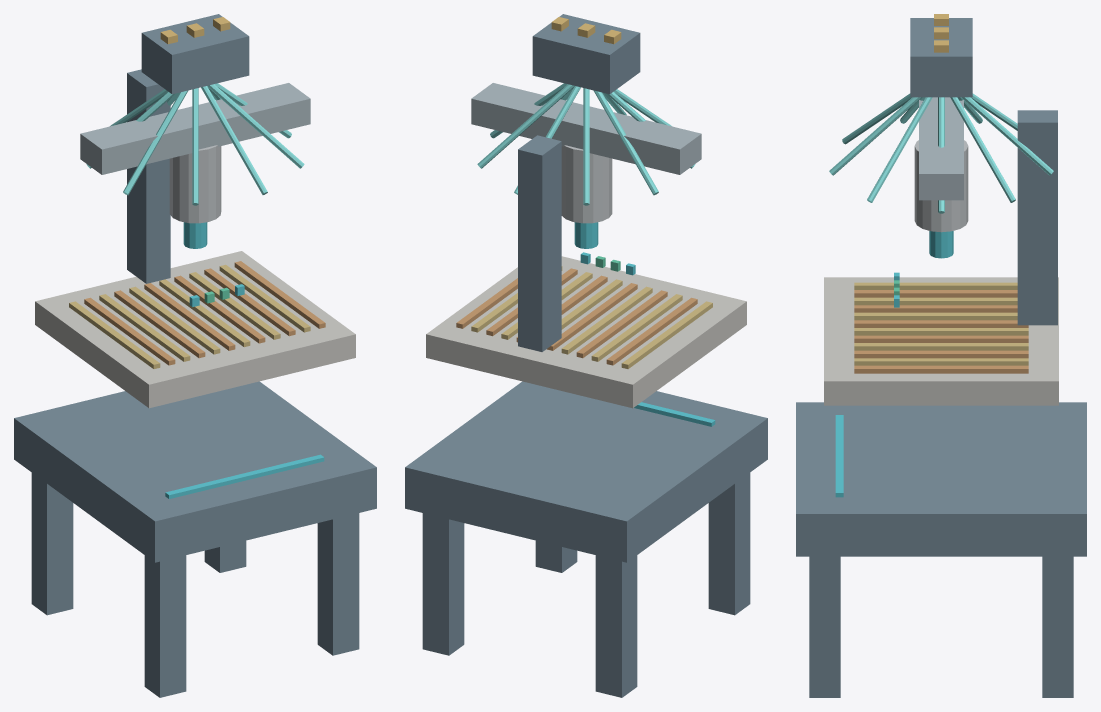
Rendered from 49_L78_DielectricEllipsometryStation.glb.
3 views of the same model, side by side, from view 1: azimuth 30°, elevation 25°; view 2: azimuth 150°, elevation 25°; view 3: azimuth 270°, elevation 25° (orthographic). The views are drawn at different scales.
Visible parts, largest first — view 1: DielectricEllipsometryStation_Node_0000, DielectricEllipsometryStation_Node_0006, DielectricEllipsometryStation_Node_0020, DielectricEllipsometryStation_Node_0032, DielectricEllipsometryStation_Node_0019, DielectricEllipsometryStation_Node_0002, DielectricEllipsometryStation_Node_0004, DielectricEllipsometryStation_Node_0001, DielectricEllipsometryStation_Node_0021, DielectricEllipsometryStation_Node_0005, DielectricEllipsometryStation_Node_0003, DielectricEllipsometryStation_Node_0010 (+16 smaller); view 2: DielectricEllipsometryStation_Node_0000, DielectricEllipsometryStation_Node_0006, DielectricEllipsometryStation_Node_0019, DielectricEllipsometryStation_Node_0020, DielectricEllipsometryStation_Node_0032, DielectricEllipsometryStation_Node_0001, DielectricEllipsometryStation_Node_0003, DielectricEllipsometryStation_Node_0002, DielectricEllipsometryStation_Node_0021, DielectricEllipsometryStation_Node_0004, DielectricEllipsometryStation_Node_0010, DielectricEllipsometryStation_Node_0007 (+11 smaller); view 3: DielectricEllipsometryStation_Node_0000, DielectricEllipsometryStation_Node_0006, DielectricEllipsometryStation_Node_0019, DielectricEllipsometryStation_Node_0032, DielectricEllipsometryStation_Node_0003, DielectricEllipsometryStation_Node_0004, DielectricEllipsometryStation_Node_0020, DielectricEllipsometryStation_Node_0021, DielectricEllipsometryStation_Node_0016, DielectricEllipsometryStation_Node_0018, DielectricEllipsometryStation_Node_0011, DielectricEllipsometryStation_Node_0009 (+15 smaller).
Part boxes in pixels (x1,y1,x2,y2): DielectricEllipsometryStation_Node_0000: [14, 381, 376, 562]; DielectricEllipsometryStation_Node_0006: [35, 251, 355, 408]; DielectricEllipsometryStation_Node_0020: [80, 83, 310, 174]; DielectricEllipsometryStation_Node_0032: [141, 14, 249, 94]; DielectricEllipsometryStation_Node_0019: [127, 69, 170, 283]; DielectricEllipsometryStation_Node_0002: [144, 555, 186, 697]; DielectricEllipsometryStation_Node_0004: [317, 513, 359, 655]; DielectricEllipsometryStation_Node_0001: [31, 473, 73, 615]; DielectricEllipsometryStation_Node_0021: [169, 145, 221, 223]; DielectricEllipsometryStation_Node_0005: [165, 454, 324, 498]; DielectricEllipsometryStation_Node_0003: [204, 540, 246, 572]; DielectricEllipsometryStation_Node_0010: [114, 290, 205, 358]; DielectricEllipsometryStation_Node_0000: [405, 381, 767, 562]; DielectricEllipsometryStation_Node_0006: [426, 256, 746, 408]; DielectricEllipsometryStation_Node_0019: [518, 135, 561, 351]; DielectricEllipsometryStation_Node_0020: [471, 83, 701, 174]; DielectricEllipsometryStation_Node_0032: [532, 14, 640, 94]; DielectricEllipsometryStation_Node_0001: [595, 555, 637, 697]; DielectricEllipsometryStation_Node_0003: [422, 513, 464, 655]; DielectricEllipsometryStation_Node_0002: [708, 473, 750, 615]; DielectricEllipsometryStation_Node_0021: [561, 145, 612, 223]; DielectricEllipsometryStation_Node_0004: [535, 540, 577, 572]; DielectricEllipsometryStation_Node_0010: [576, 290, 667, 358]; DielectricEllipsometryStation_Node_0007: [621, 301, 712, 368]; DielectricEllipsometryStation_Node_0000: [796, 402, 1086, 556]; DielectricEllipsometryStation_Node_0006: [824, 277, 1058, 405]; DielectricEllipsometryStation_Node_0019: [1017, 110, 1057, 325]; DielectricEllipsometryStation_Node_0032: [910, 18, 972, 97]; DielectricEllipsometryStation_Node_0003: [1042, 556, 1073, 697]; DielectricEllipsometryStation_Node_0004: [809, 556, 840, 697]; DielectricEllipsometryStation_Node_0020: [919, 97, 963, 200]; DielectricEllipsometryStation_Node_0021: [914, 140, 968, 232]; DielectricEllipsometryStation_Node_0016: [854, 350, 1028, 358]; DielectricEllipsometryStation_Node_0018: [854, 365, 1028, 373]; DielectricEllipsometryStation_Node_0011: [854, 312, 1017, 320]; DielectricEllipsometryStation_Node_0009: [854, 297, 1017, 305].
Size of the model in its own units: 1.18 by 3.05 by 1.3.
